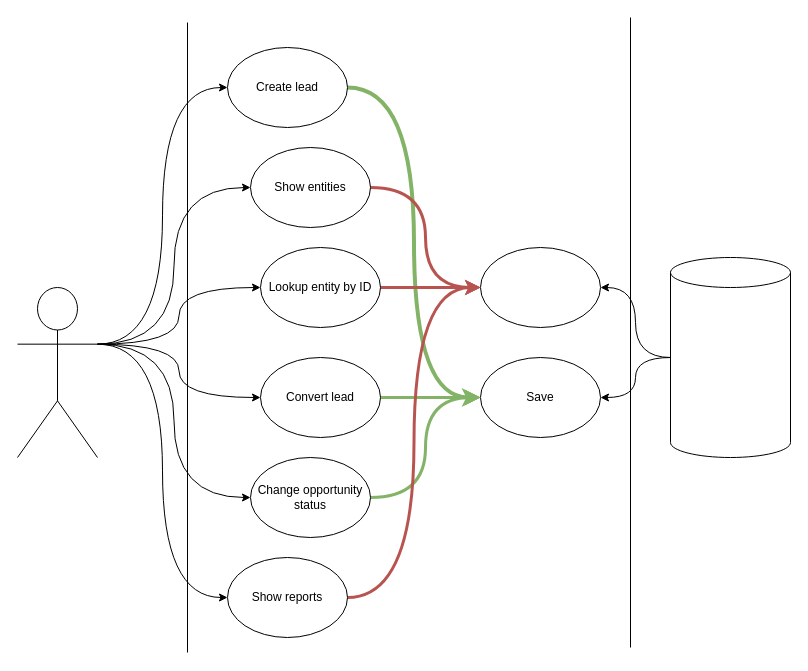
This 808x671 diagram has some shape labels left out. Each missing label, with the centre of its shape:
"MySQL Database" goes at (x=730, y=357).
"Read" goes at (x=540, y=287).
"User" goes at (x=57, y=372).
